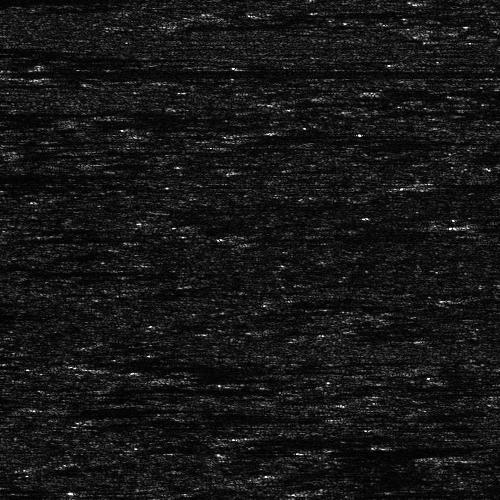object: (77, 355, 192, 378), (121, 369, 246, 388), (397, 179, 480, 188), (408, 221, 491, 230), (434, 451, 500, 462), (233, 430, 286, 441), (314, 443, 367, 454), (299, 91, 382, 98), (0, 232, 47, 241), (0, 66, 29, 79), (243, 129, 254, 138), (190, 24, 221, 27), (98, 386, 129, 389), (472, 497, 500, 500)
shadow: (0, 66, 462, 79), (135, 355, 322, 378), (260, 430, 453, 441), (340, 443, 500, 454), (0, 169, 217, 176), (0, 181, 159, 190), (184, 369, 247, 388), (248, 129, 378, 138), (340, 91, 500, 98), (11, 232, 130, 241), (0, 0, 109, 7), (438, 179, 500, 188), (449, 221, 500, 230), (114, 386, 238, 389), (38, 407, 158, 410), (471, 451, 500, 462), (206, 24, 271, 27)
